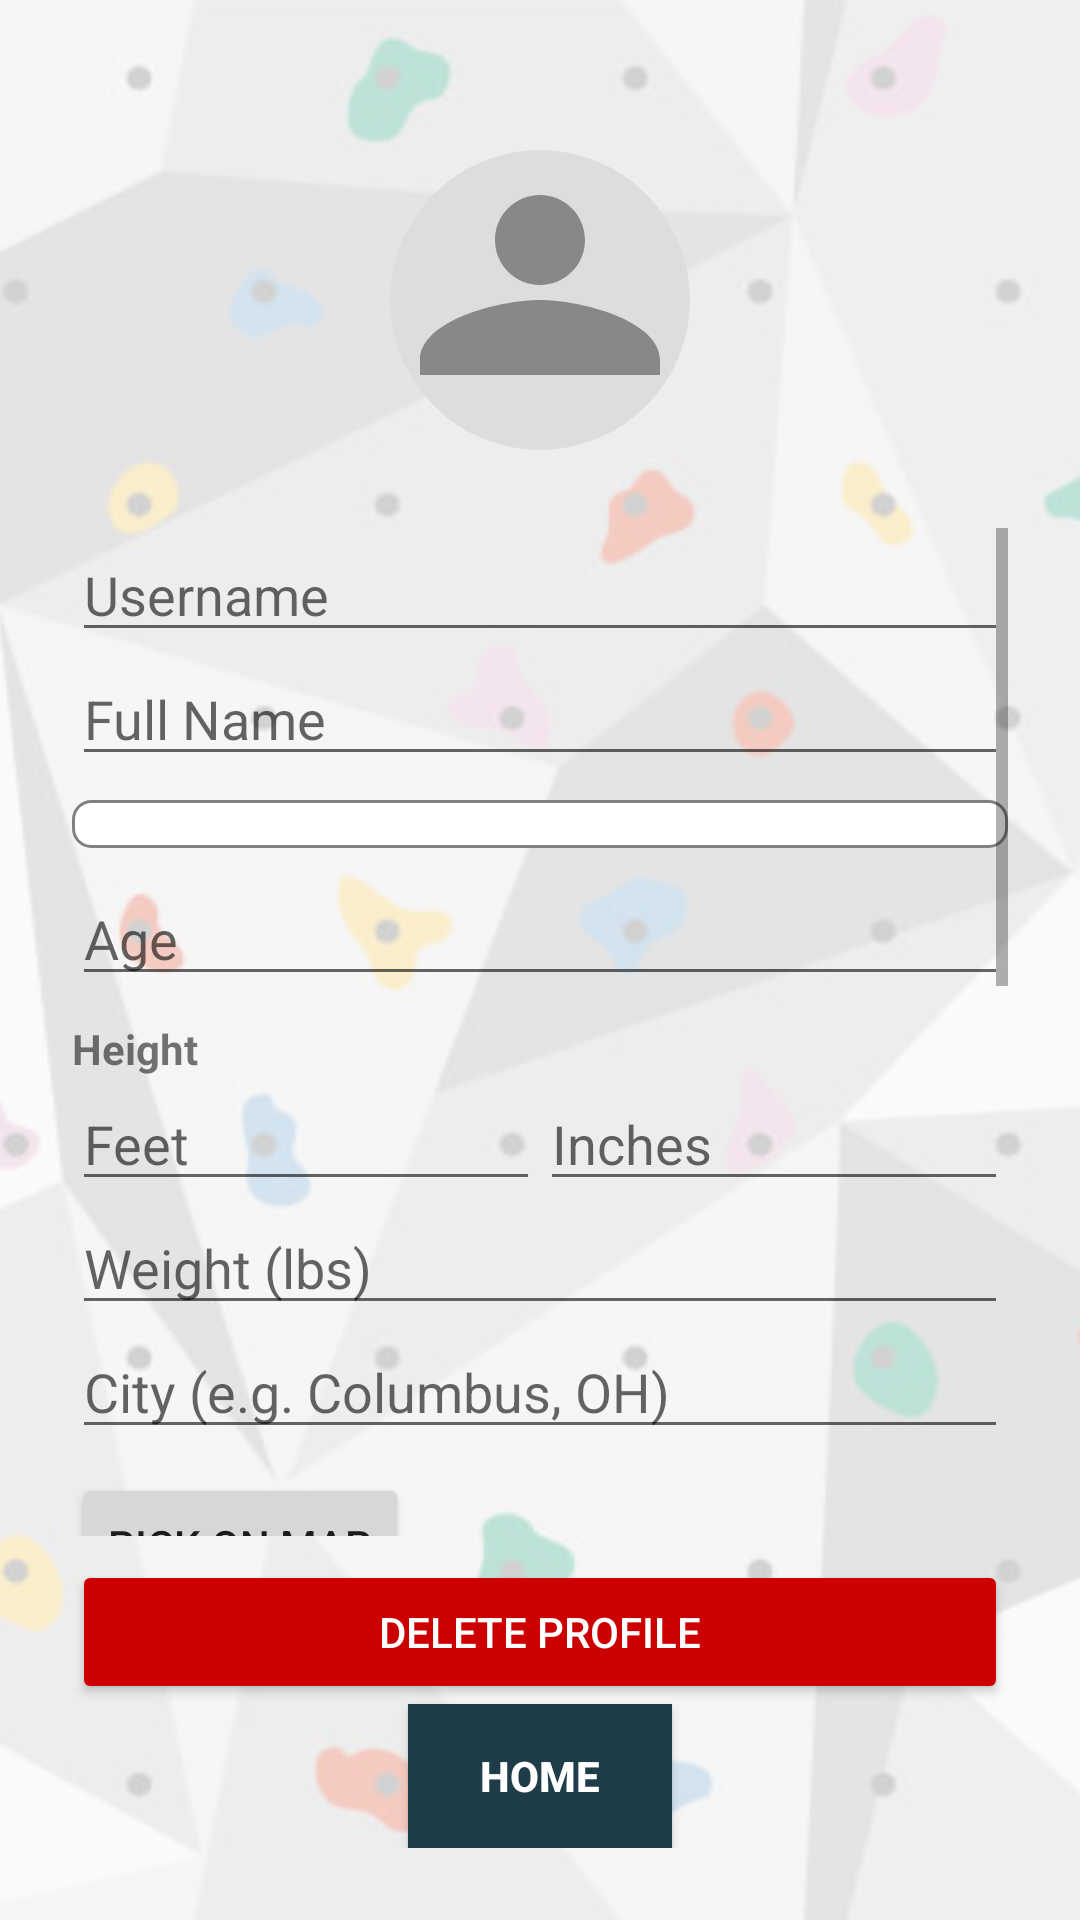

Icon click points for this 1080px x 1920px phone screenshot, format (x,y):
Profile Picture: (540,285)
